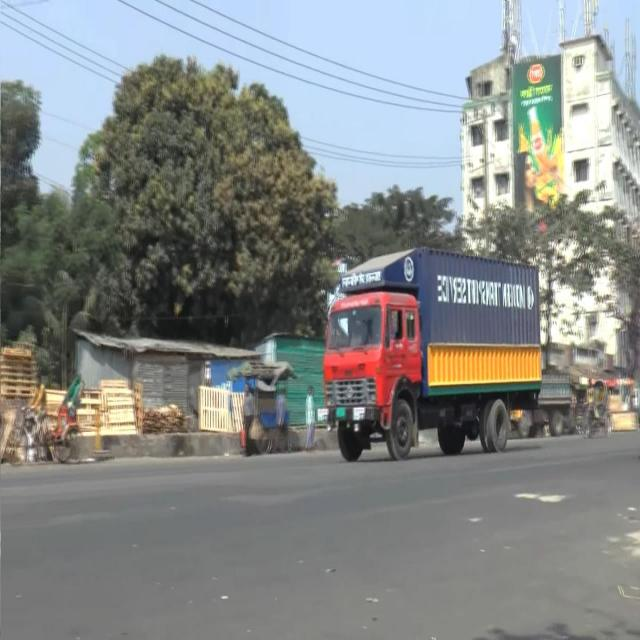truck: (316, 244, 550, 476)
